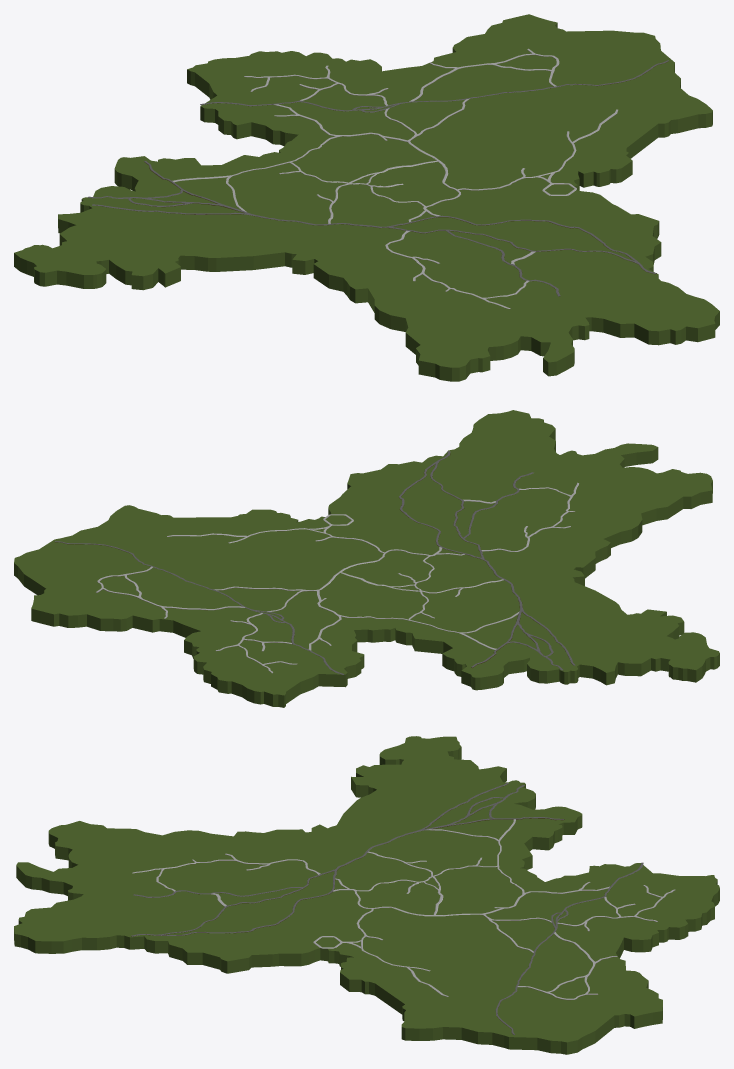
Rendered from Site ulici.fbx.
The picture shows the model from 3 angles, top to bottom: view 1: azimuth 30°, elevation 25°; view 2: azimuth 150°, elevation 25°; view 3: azimuth 270°, elevation 25°; orthographic projection. The views are drawn at different scales.
Parts seen in each view (by area): view 1: polySurface14, polySurface27, polySurface156, polySurface175; view 2: polySurface14, polySurface156; view 3: polySurface14, polySurface156, polySurface27, polySurface175.
Part boxes in pixels (x1,y1,x2,y2): polySurface14: [14, 14, 719, 381]; polySurface27: [96, 161, 656, 291]; polySurface156: [232, 136, 427, 223]; polySurface175: [385, 230, 529, 308]; polySurface14: [14, 410, 719, 707]; polySurface156: [341, 554, 503, 632]; polySurface14: [14, 736, 719, 1054]; polySurface156: [350, 841, 524, 893]; polySurface27: [131, 784, 564, 936]; polySurface175: [132, 853, 320, 891].
Size of the model in its own units: 187704 by 5173 by 182846.
